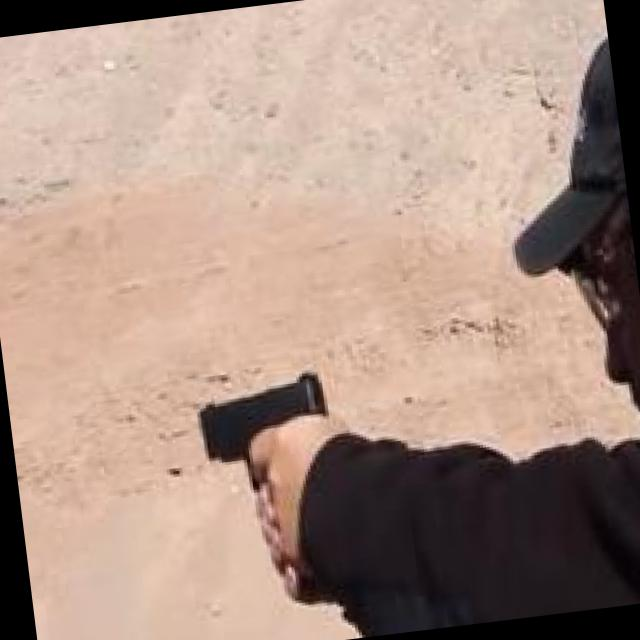Guns: (137, 335, 414, 638)
